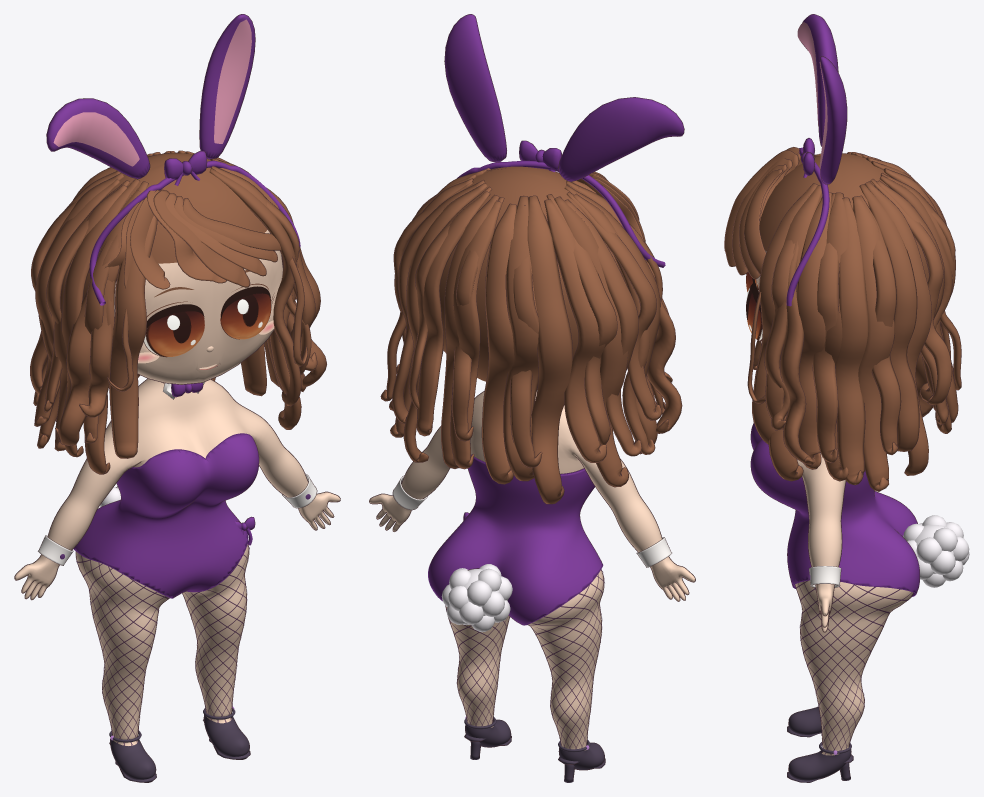
Rendered from bunny_codex_stand.glb.
The picture shows the model from 3 angles, left to right: view 1: azimuth 30°, elevation 25°; view 2: azimuth 150°, elevation 25°; view 3: azimuth 270°, elevation 25°; orthographic projection.
Parts seen in each view (by area): view 1: RB_Body, Costume_Leotard, RB_Head, Hair_Layer1_10, Hair_Cap, Costume_FishnetTights, RB_EyeWhite, Hair_Layer1_00, Hair_FaceWave_-1_1, Costume_BunnyEar_R, Costume_BunnyEar_L, Hair_Layer1_09 (+27 smaller); view 2: RB_Body, Costume_Leotard, Hair_Layer0_06, Hair_Layer0_05, Costume_BunnyEar_L, Hair_Layer1_07, Costume_BunnyEar_R, Hair_Cap, Hair_Layer1_06, Hair_Layer1_04, Hair_Layer1_05, Hair_Layer0_07 (+20 smaller); view 3: RB_Body, Costume_Leotard, Hair_Layer1_02, Hair_Layer0_02, Hair_Layer1_03, Hair_Layer1_01, Hair_Layer2_01, Hair_Cap, Hair_Layer2_02, Hair_Layer0_03, Hair_Layer1_00, Hair_FaceWave_1_1 (+27 smaller).
Part boxes in pixels (x1,y1,x2,y2): RB_Body: [14, 378, 340, 745]; Costume_Leotard: [74, 434, 259, 597]; RB_Head: [114, 230, 283, 384]; Hair_Layer1_10: [109, 215, 157, 458]; Hair_Cap: [83, 152, 267, 297]; Costume_FishnetTights: [75, 545, 249, 745]; RB_EyeWhite: [143, 293, 271, 356]; Hair_Layer1_00: [209, 168, 301, 406]; Hair_FaceWave_-1_1: [55, 234, 120, 445]; Costume_BunnyEar_R: [199, 14, 255, 159]; Costume_BunnyEar_L: [46, 98, 150, 179]; Hair_Layer1_09: [61, 179, 139, 457]; RB_Body: [369, 391, 695, 750]; Costume_Leotard: [428, 454, 602, 624]; Hair_Layer0_06: [527, 195, 572, 504]; Hair_Layer0_05: [481, 203, 516, 484]; Costume_BunnyEar_L: [558, 97, 684, 181]; Hair_Layer1_07: [544, 199, 606, 462]; Costume_BunnyEar_R: [444, 14, 506, 162]; Hair_Cap: [439, 166, 619, 389]; Hair_Layer1_06: [503, 195, 538, 481]; Hair_Layer1_04: [416, 191, 490, 436]; Hair_Layer1_05: [450, 200, 501, 469]; Hair_Layer0_07: [554, 196, 628, 487]; RB_Body: [795, 453, 913, 755]; Costume_Leotard: [750, 422, 919, 595]; Hair_Layer1_02: [835, 197, 868, 485]; Hair_Layer0_02: [852, 196, 894, 491]; Hair_Layer1_03: [859, 184, 919, 451]; Hair_Layer1_01: [796, 192, 831, 469]; Hair_Layer2_01: [812, 193, 839, 463]; Hair_Cap: [759, 153, 928, 282]; Hair_Layer2_02: [860, 195, 901, 454]; Hair_Layer0_03: [865, 181, 931, 475]; Hair_Layer1_00: [752, 183, 817, 444]; Hair_FaceWave_1_1: [780, 239, 814, 465].
Bounding box in the file's own units: 0.6949 × 1.49 × 0.4538.
Materials: 23 (2 with a texture image).
